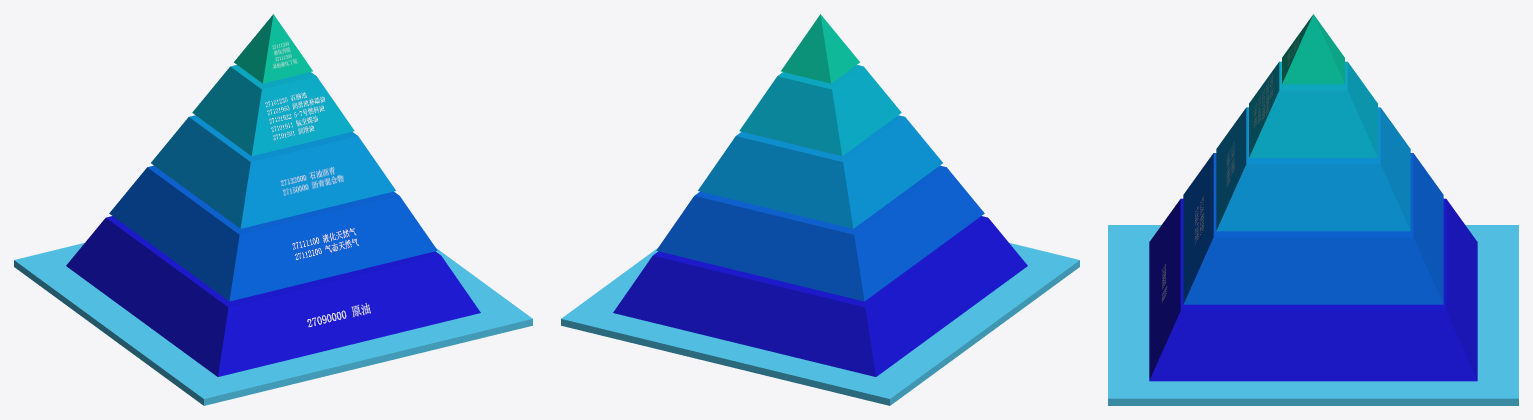
The picture shows the model from 3 angles, left to right: view 1: azimuth 30°, elevation 25°; view 2: azimuth 150°, elevation 25°; view 3: azimuth 270°, elevation 25°; orthographic projection. The views are drawn at different scales.
Parts seen in each view (by area): view 1: F01, F02, base, F03, F04, F05; view 2: F01, F02, base, F03, F04, F05; view 3: F01, base, F02, F03, F04, F05.
Boxes of the visible parts, x1,y1,x2,y2 form: F01: (66,216,480,376); F02: (109,165,437,301); base: (14,243,532,405); F03: (151,115,395,228); F04: (192,65,354,155); F05: (234,14,312,83); F01: (613,216,1027,376); F02: (656,165,984,301); base: (561,243,1079,405); F03: (698,115,942,228); F04: (739,65,901,155); F05: (781,14,859,83); F01: (1149,198,1477,381); base: (1108,225,1518,405); F02: (1183,153,1443,304); F03: (1216,107,1410,231); F04: (1249,61,1377,157); F05: (1282,14,1344,84).
Size of the model in its own units: 1250 by 1025 by 1250.
